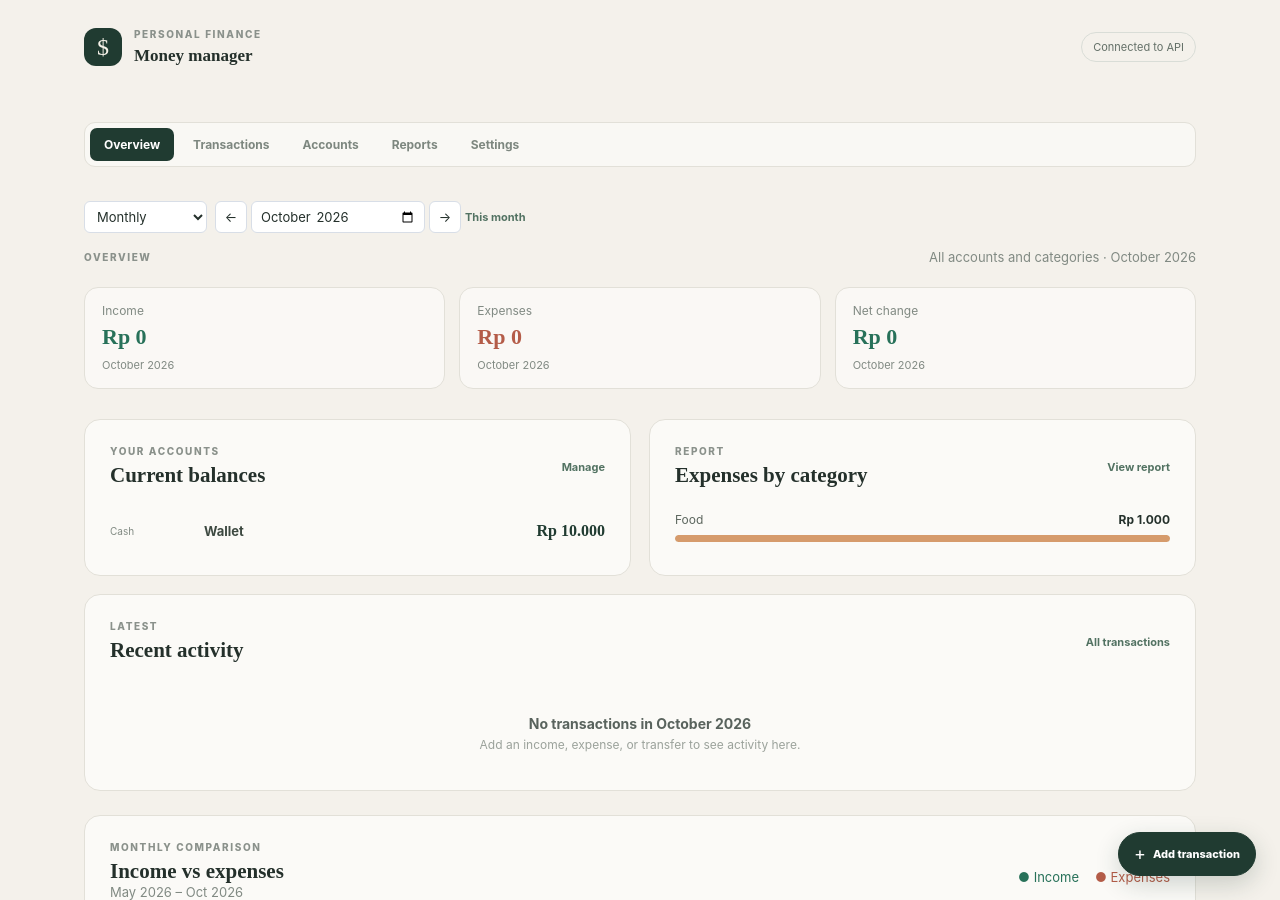
defaults to this month and preserves the selected month across navigation and filter clearing
Expected: the heading "Current balances" is shown, [110, 463, 265, 488]
Expected: the text "Net change" is shown, [853, 303, 918, 318]
Replace the text in the field named "Selected month" with "2028-02" at (338,217), box [251, 201, 425, 233]
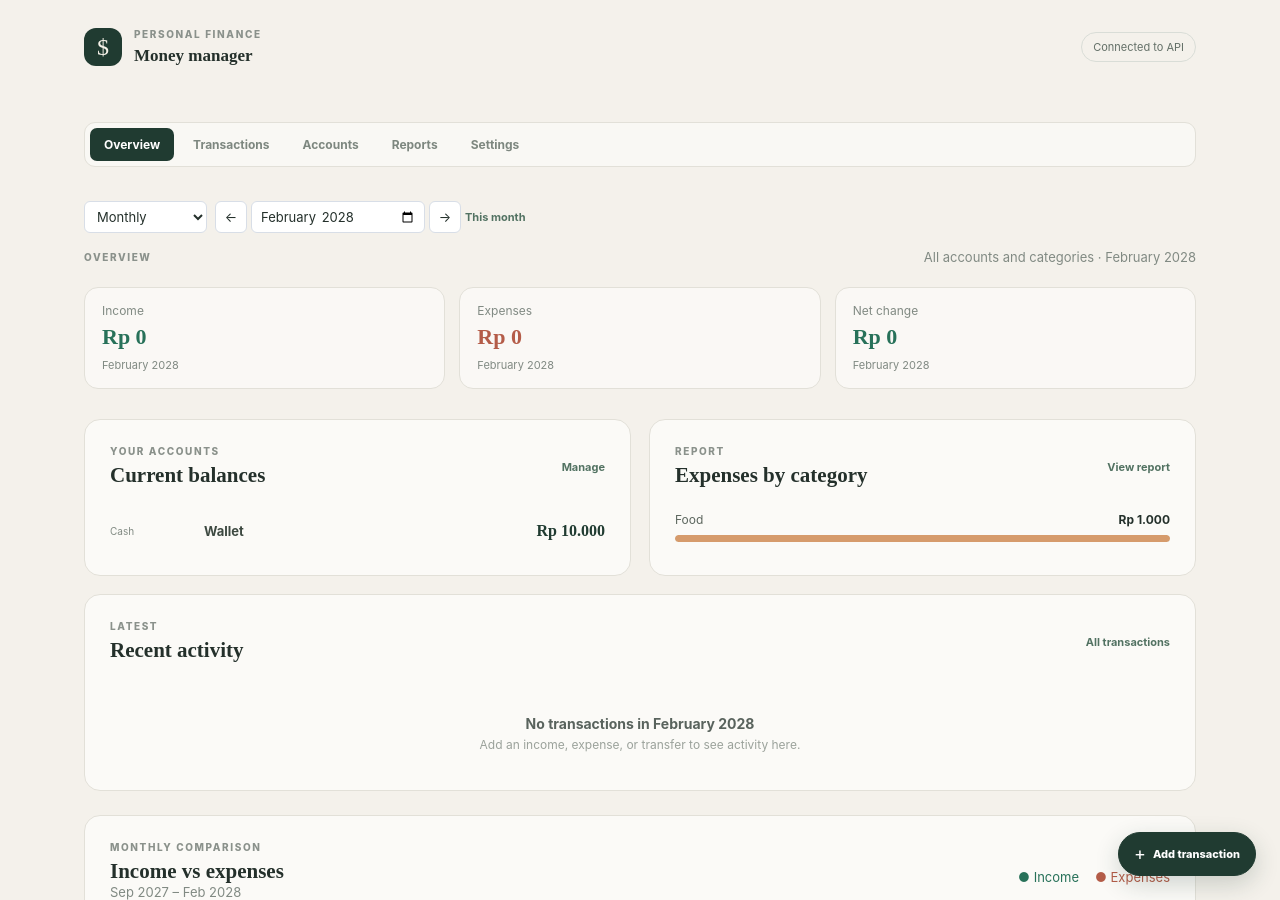
Click the button named "Previous month" at (231,217), box [215, 201, 247, 233]
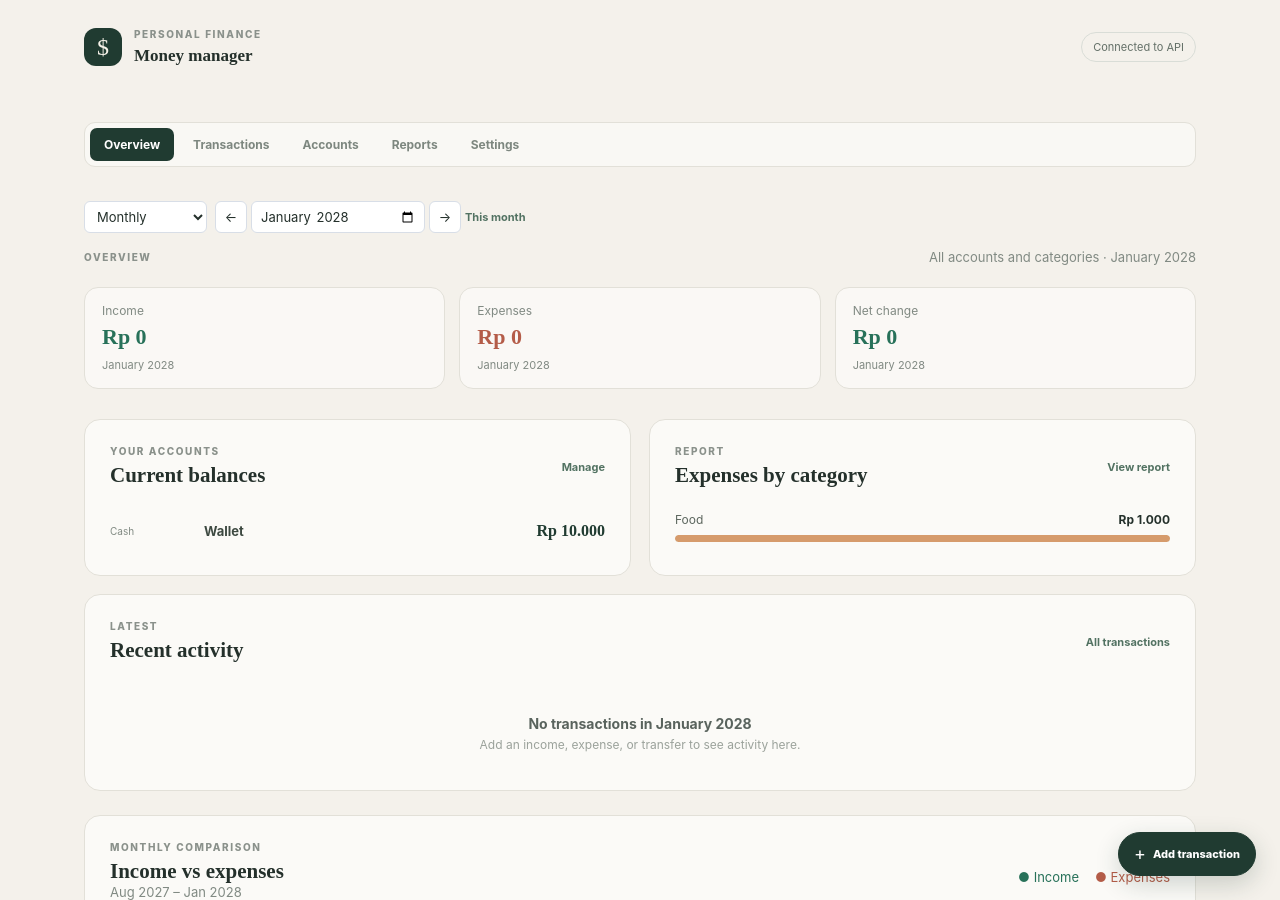
Expected: the field named "Selected month" holds "2028-01", [251, 201, 425, 233]
Click the button named "Next month" at (445,217), box [429, 201, 461, 233]
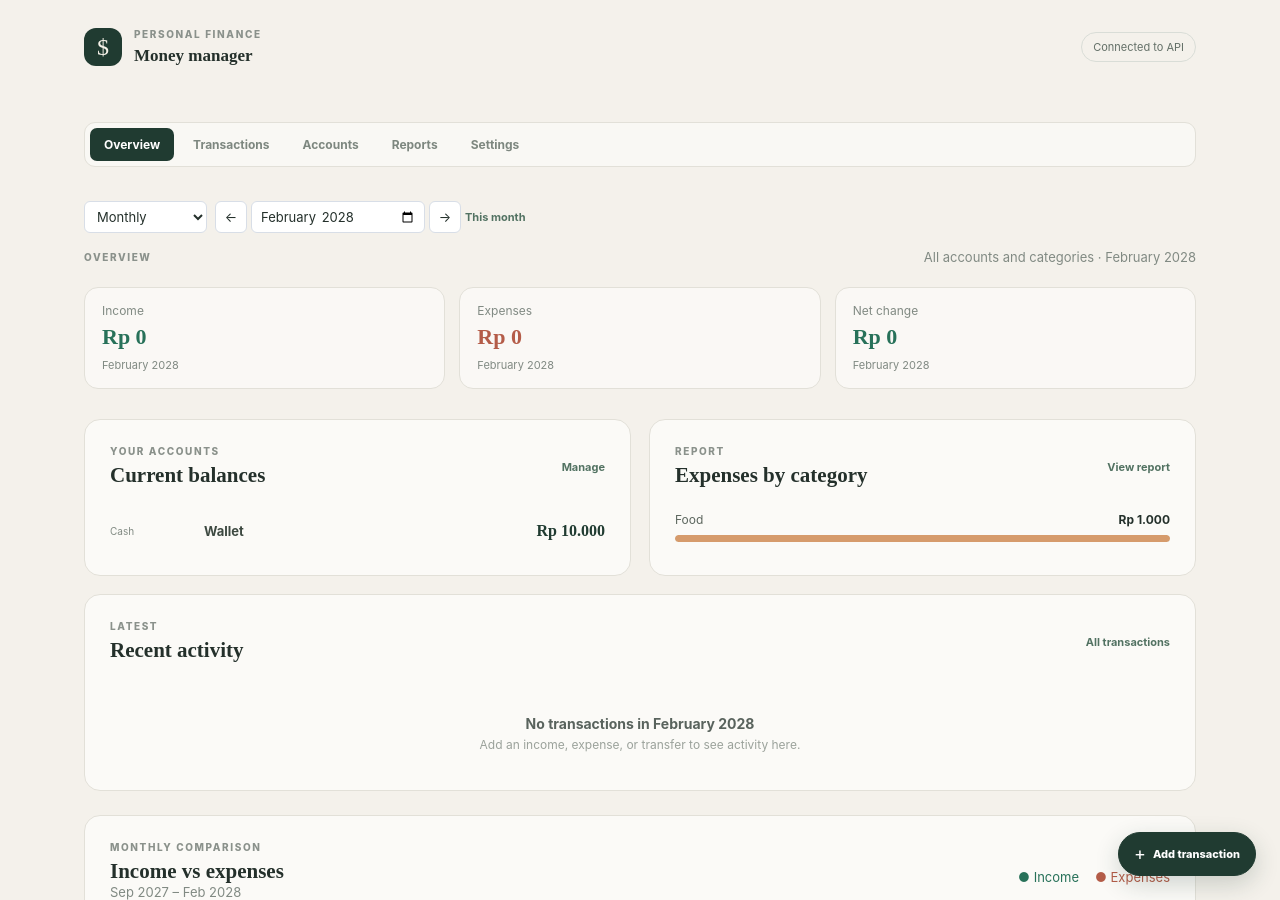
Click the button with aria-label "View transactions for Food" at (1144,520), box [675, 512, 1170, 542]
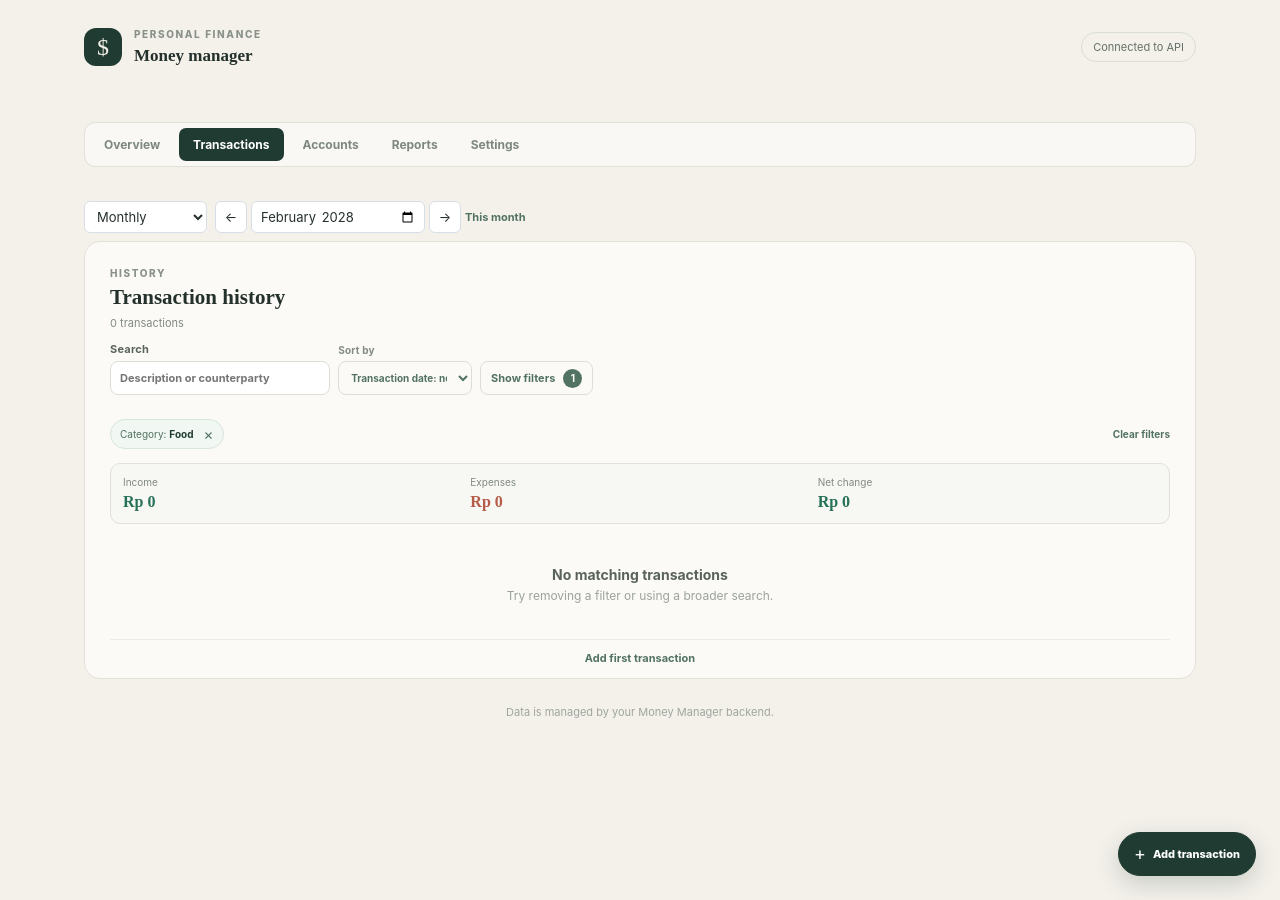
Click the button "Clear filters" at (1141,434), box [1113, 423, 1170, 445]
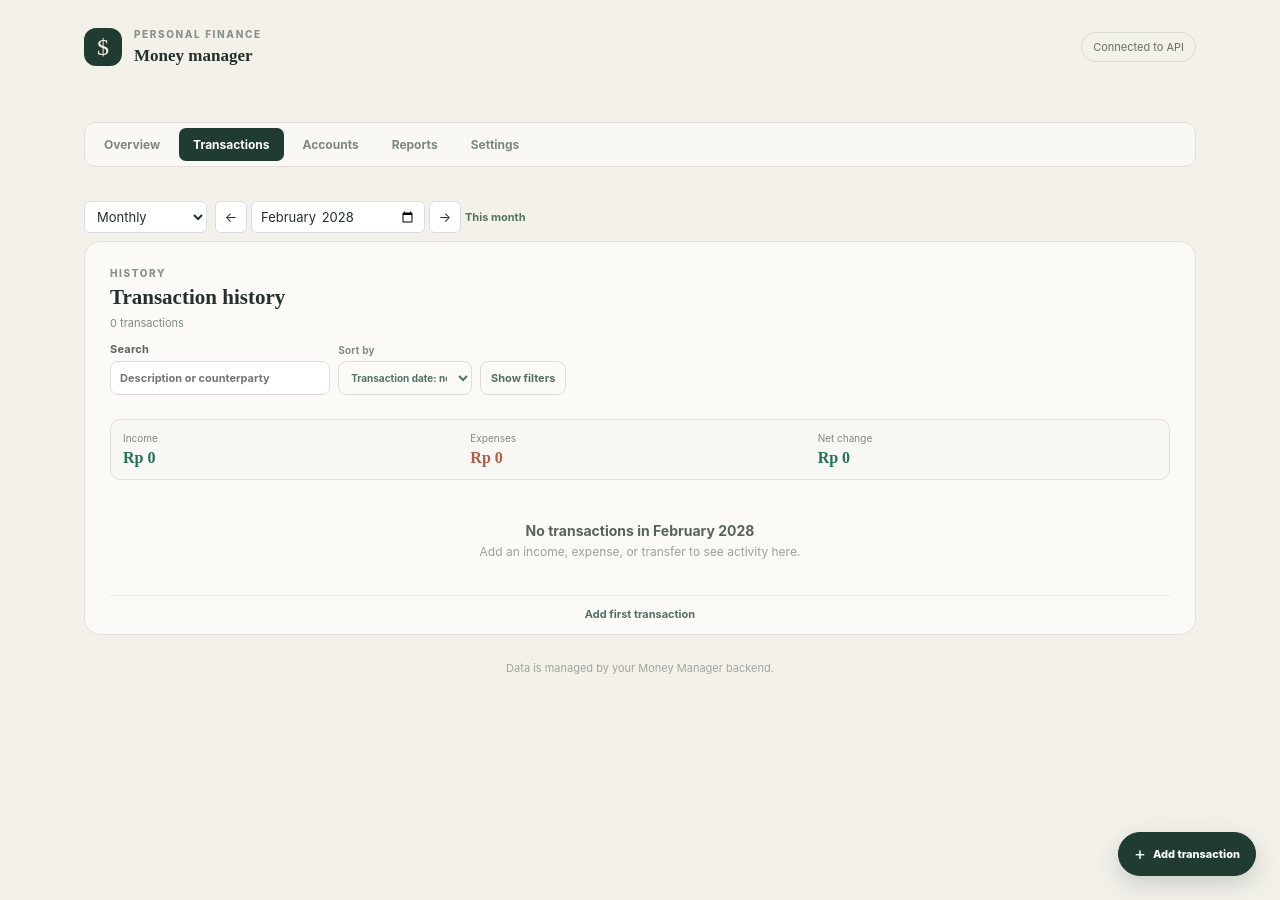
Expected: the text "No transactions in February 2028" is shown, [526, 522, 754, 539]
Click the button "This month" at (495,217), box [465, 201, 526, 233]
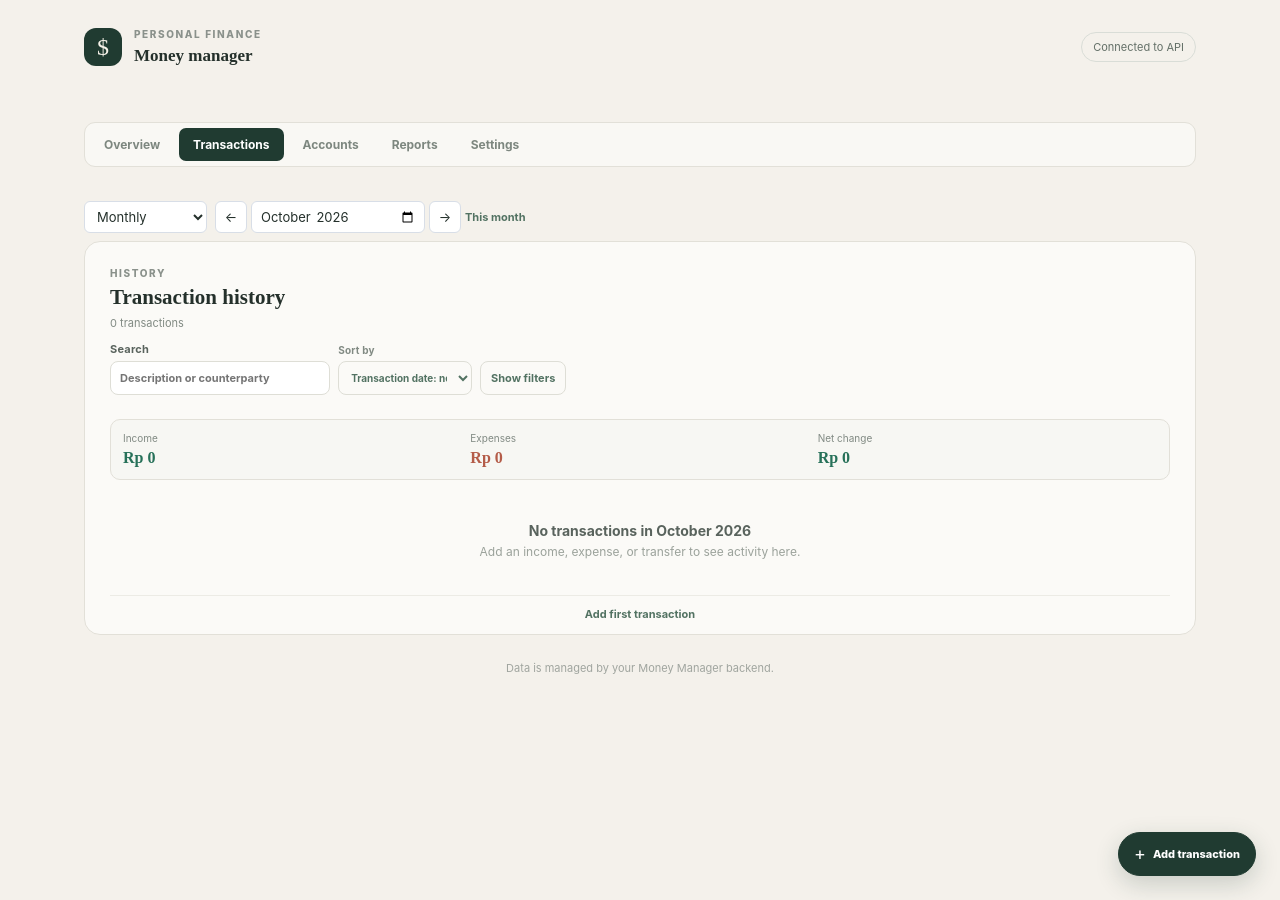
Expected: the field named "Selected month" holds "2026-10", [251, 201, 425, 233]
